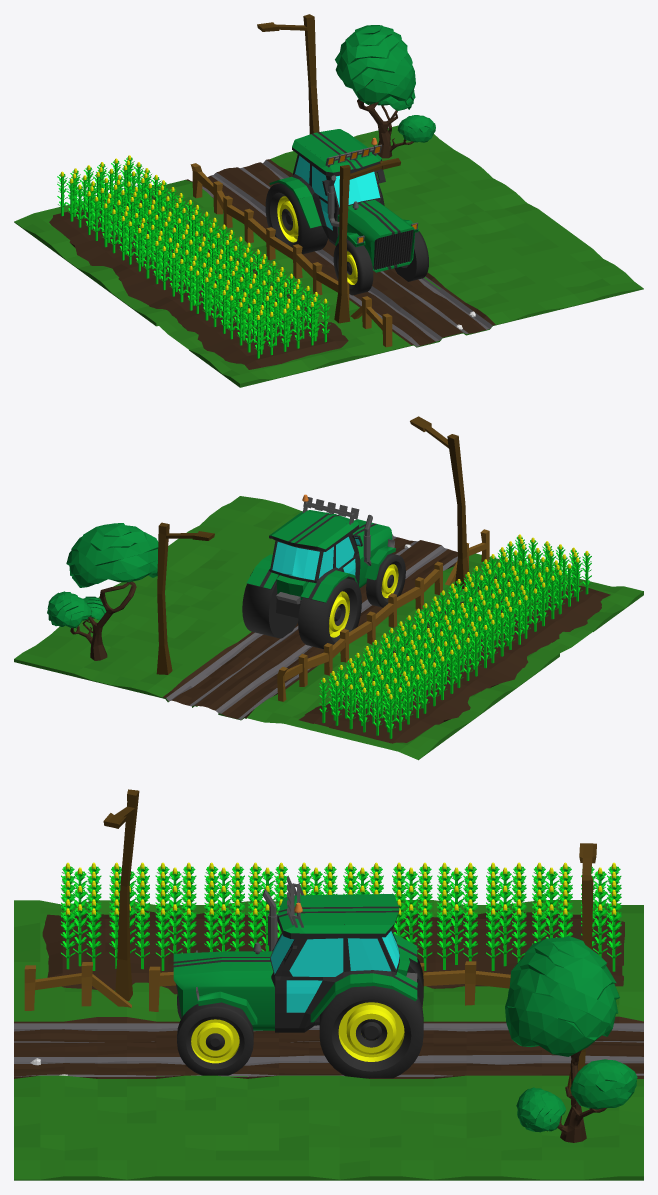
The model's file is tractor.fbx.
The picture shows the model from 3 angles, top to bottom: view 1: azimuth 30°, elevation 25°; view 2: azimuth 150°, elevation 25°; view 3: azimuth 270°, elevation 25°; orthographic projection. The views are drawn at different scales.
Visible parts, largest first — view 1: Куб.045, Куб.061, Tree_winding_01, Куб.002, Цилиндр.002, Куб.001, Куб.046, Куб.004, Куб.006, Куб.013, Куб.011, Куб.005 (+4 smaller); view 2: Куб.045, Куб.061, Tree_winding_01, Цилиндр.002, Куб.001, Куб.013, Куб.046, Куб.053, Куб.011, Куб.005, Куб.002, Куб.006 (+4 smaller); view 3: Куб.045, Tree_winding_01, Куб.061, Цилиндр.002, Куб.001, Куб.011, Куб.004, Куб, Куб.002, Куб.013, Куб.046, Куб.053 (+5 smaller).
Part boxes in pixels (x1,y1,x2,y2): Куб.045: (14,125,643,387); Куб.061: (49,196,348,369); Tree_winding_01: (335,25,435,158); Куб.002: (226,279,330,358); Цилиндр.002: (265,183,428,295); Куб.001: (269,129,385,244); Куб.046: (190,163,392,347); Куб.004: (192,254,296,333); Куб.006: (125,205,229,283); Куб.013: (57,155,161,234); Куб.011: (91,180,195,260); Куб.005: (159,230,262,310); Куб.045: (14,496,643,760); Куб.061: (299,573,610,743); Tree_winding_01: (47,523,158,660); Цилиндр.002: (242,553,405,649); Куб.001: (246,510,362,619); Куб.013: (319,658,422,738); Куб.046: (277,529,489,701); Куб.053: (156,416,469,674); Куб.011: (353,633,456,713); Куб.005: (421,583,524,663); Куб.002: (488,534,591,614); Куб.006: (387,608,490,687); Куб.045: (14,900,643,1180); Tree_winding_01: (505,935,637,1142); Куб.061: (42,910,624,994); Цилиндр.002: (177,958,423,1078); Куб.001: (270,894,417,1032); Куб.011: (437,862,526,970); Куб.004: (155,862,244,970); Куб: (173,951,274,1030); Куб.002: (60,862,149,970); Куб.013: (532,862,621,971); Куб.046: (24,961,510,1011); Куб.053: (103,789,596,1093).
Bounding box in the file's own units: 1513 × 572 × 1467.
